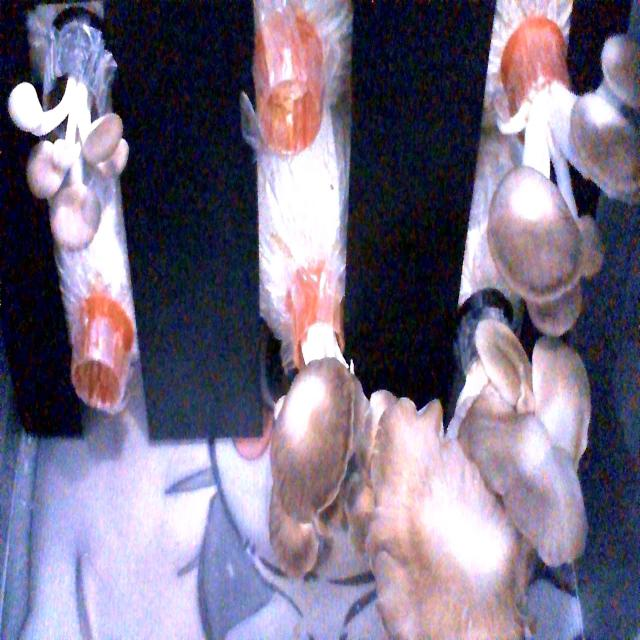big: (358, 347, 600, 640), (485, 57, 640, 326), (275, 325, 377, 595)
nfound: (254, 63, 332, 167), (66, 350, 136, 443)
small: (8, 72, 138, 264)
